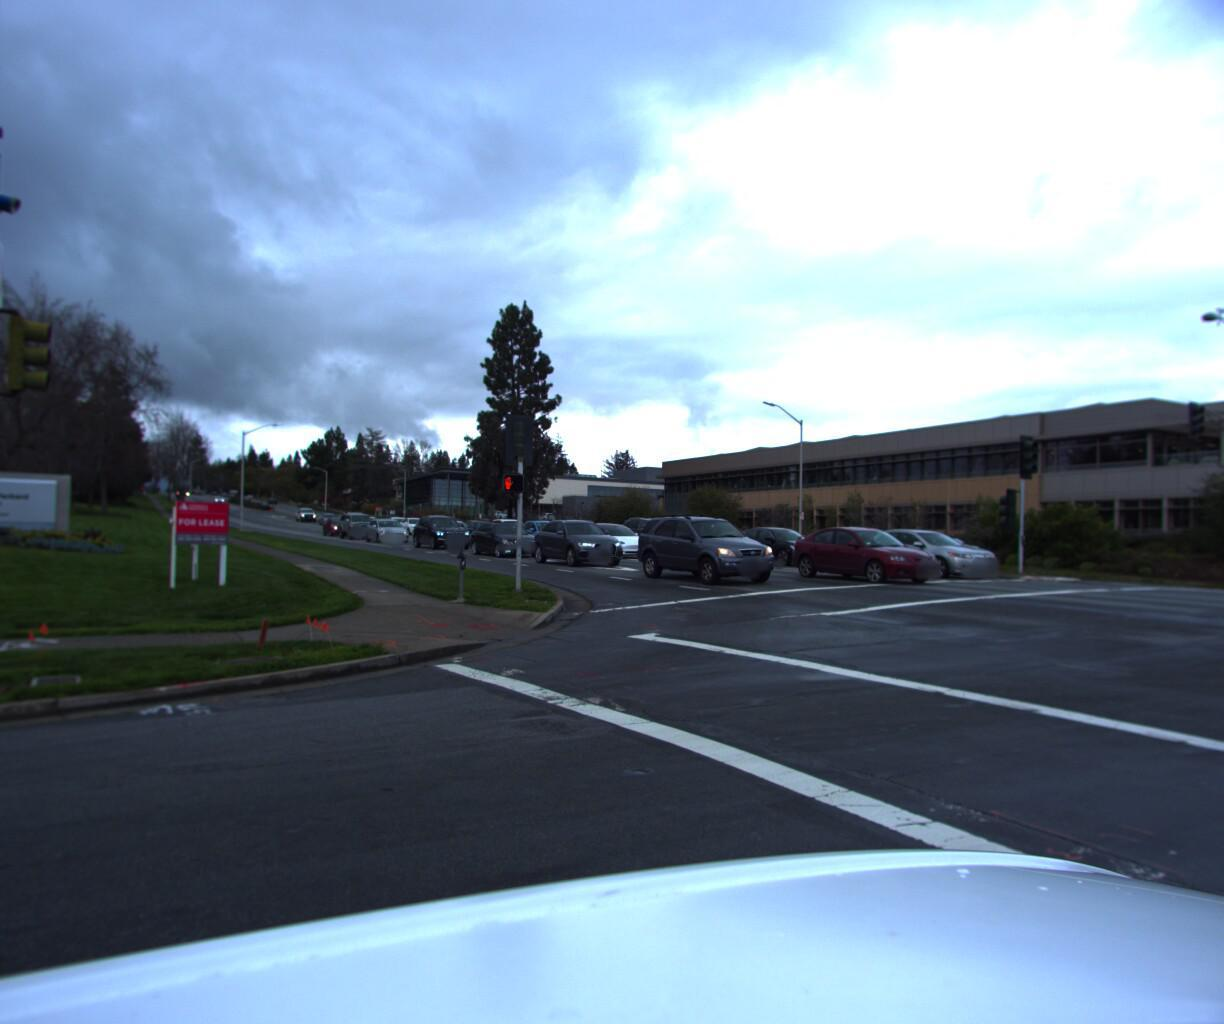car: (629, 515, 787, 591), (783, 529, 957, 594), (840, 532, 1012, 590), (862, 542, 991, 589), (528, 521, 635, 573), (721, 531, 843, 574), (568, 525, 662, 568), (466, 527, 550, 565), (410, 519, 480, 557), (509, 522, 582, 558), (338, 517, 388, 547), (363, 524, 416, 550), (319, 521, 359, 546), (397, 522, 439, 544)
